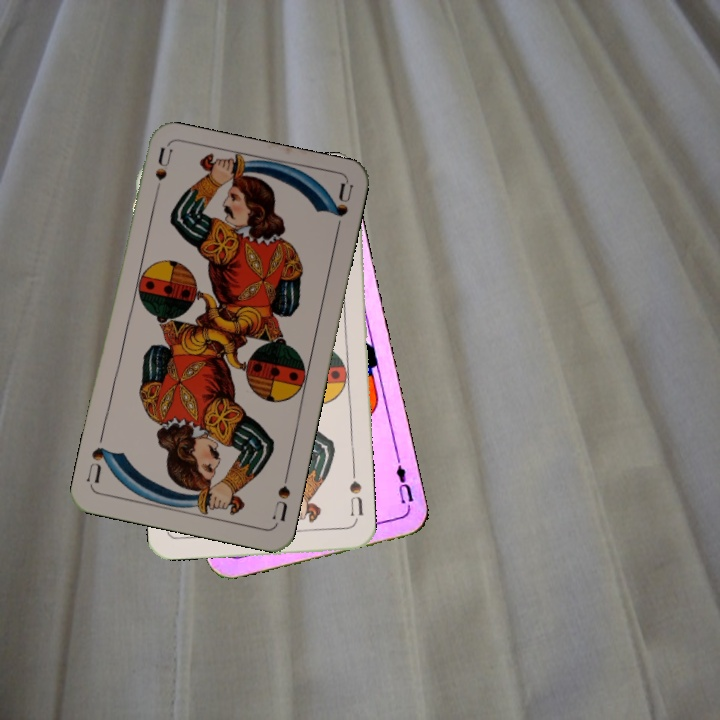EU: (391, 454, 417, 513)
SU: (149, 144, 175, 204), (269, 468, 293, 524), (346, 477, 366, 518)
